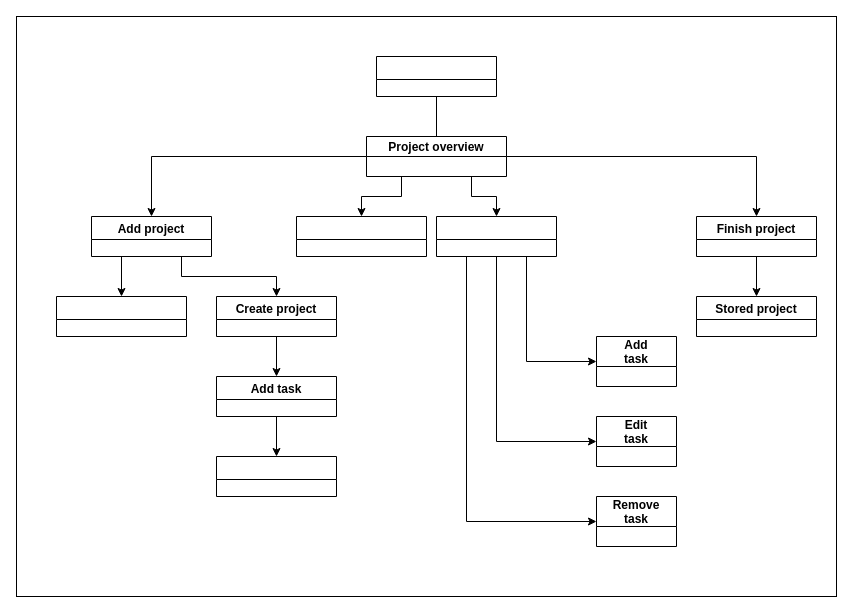
This 853x613 diagram has some shape labels left out. The centre of each missing label's shape, as x and y in pixels:
"Add subtask" goes at pixel 276 476.
"Project template" goes at pixel 121 316.
"Remove project" goes at pixel 361 236.
"Update project" goes at pixel 496 236.
"User" goes at pixel 436 76.
